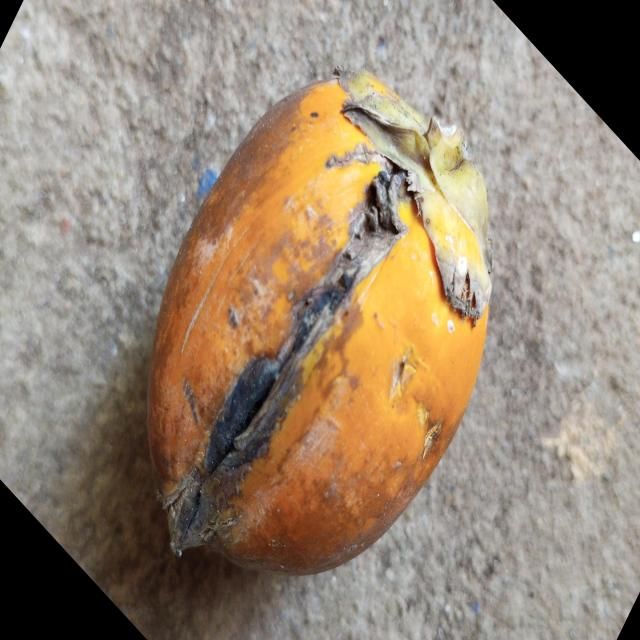damaged: (148, 71, 492, 573)
